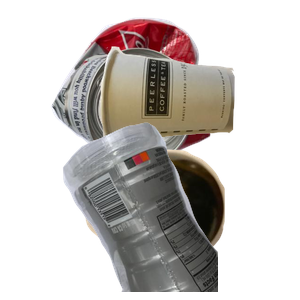glass: (77, 147, 295, 300)
metal: (48, 15, 251, 175)
plastic: (60, 120, 300, 300)
trash: (95, 44, 300, 180)
